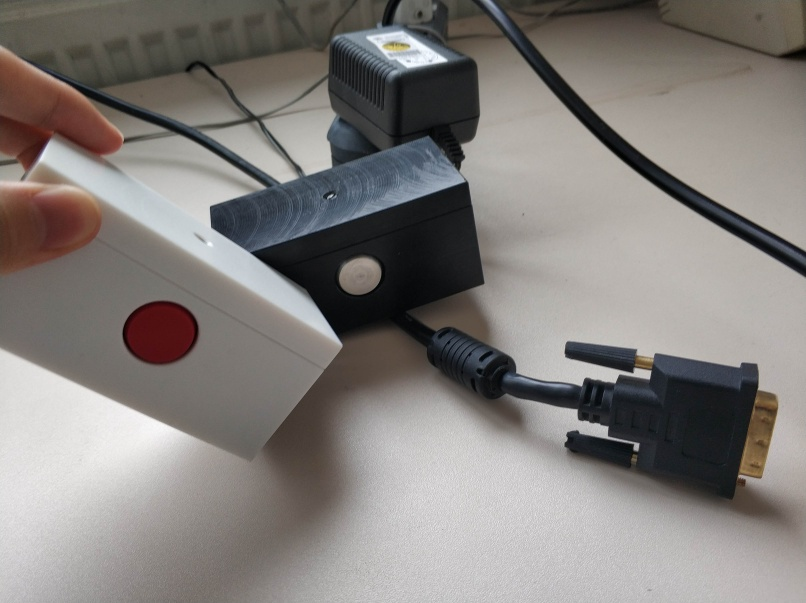black+black+silver: (214, 133, 482, 340)
white+white+red: (1, 130, 347, 464)
